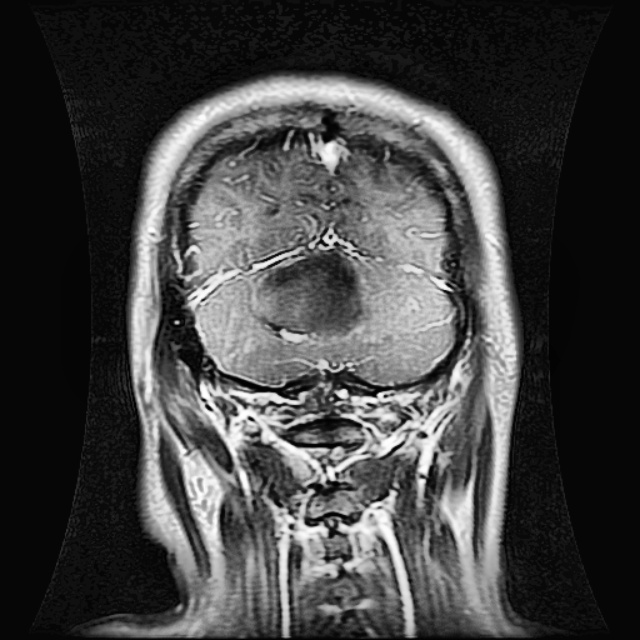Meningioma: (265, 244, 368, 338)
